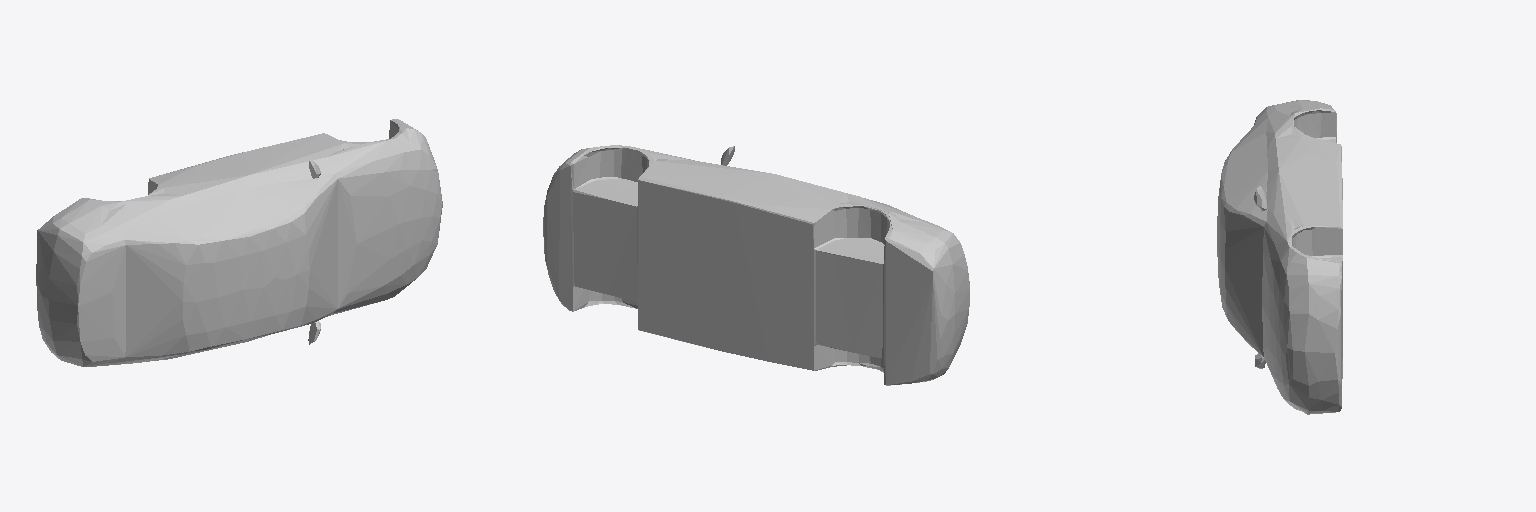
File: bmw_e90_chassis_col.obj
3 views of the same model, side by side, from view 1: azimuth 30°, elevation 25°; view 2: azimuth 150°, elevation 25°; view 3: azimuth 270°, elevation 25° (orthographic).
Visible parts, largest first — view 1: bmw_e90_chassis.200; view 2: bmw_e90_chassis.200; view 3: bmw_e90_chassis.200.
Part boxes in pixels (left/top/right/bottom): bmw_e90_chassis.200: left=36, top=119, right=442, bottom=366; bmw_e90_chassis.200: left=543, top=145, right=969, bottom=385; bmw_e90_chassis.200: left=1217, top=100, right=1342, bottom=414.
Bounding box in the file's own units: 4.52 × 2.01 × 1.25.